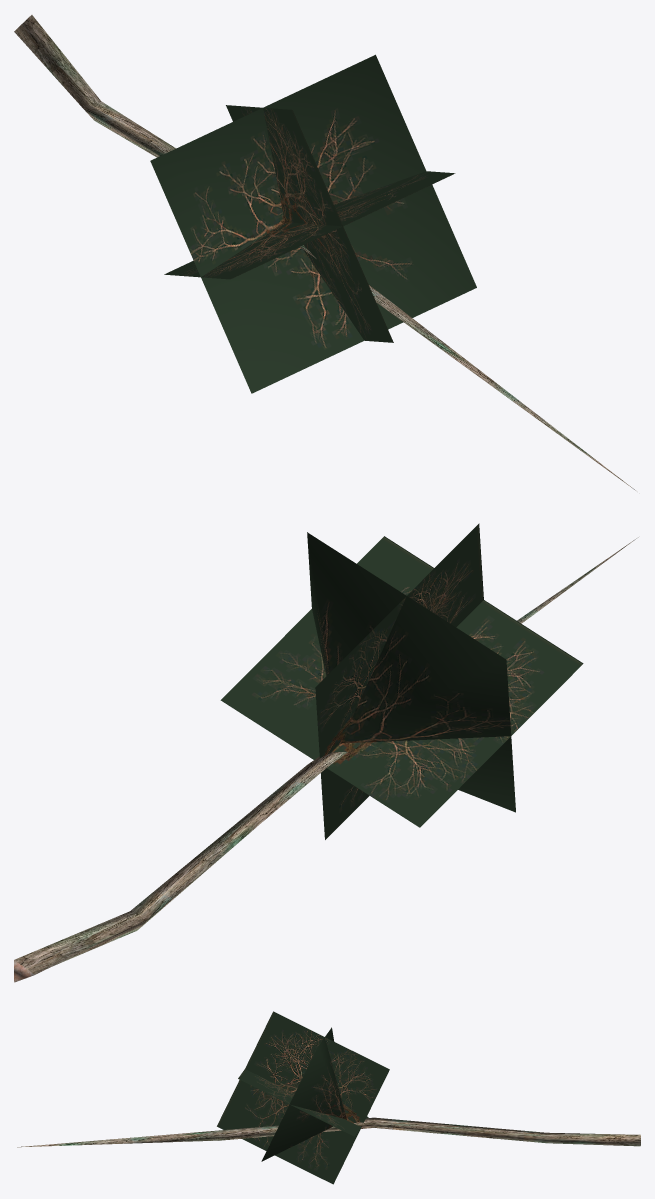
File: decd_dogwoodlog_l1.fbx
The picture shows the model from 3 angles, top to bottom: view 1: azimuth 30°, elevation 25°; view 2: azimuth 150°, elevation 25°; view 3: azimuth 270°, elevation 25°; orthographic projection. The views are drawn at different scales.
Visible parts, largest first — view 1: mesh_node; view 2: mesh_node; view 3: mesh_node.
Part boxes in pixels (x1,y1,x2,y2): mesh_node: (14,15,635,490); mesh_node: (14,523,638,982); mesh_node: (17,1011,640,1184).
Bounding box in the file's own units: 2 × 2.16 × 8.17.
